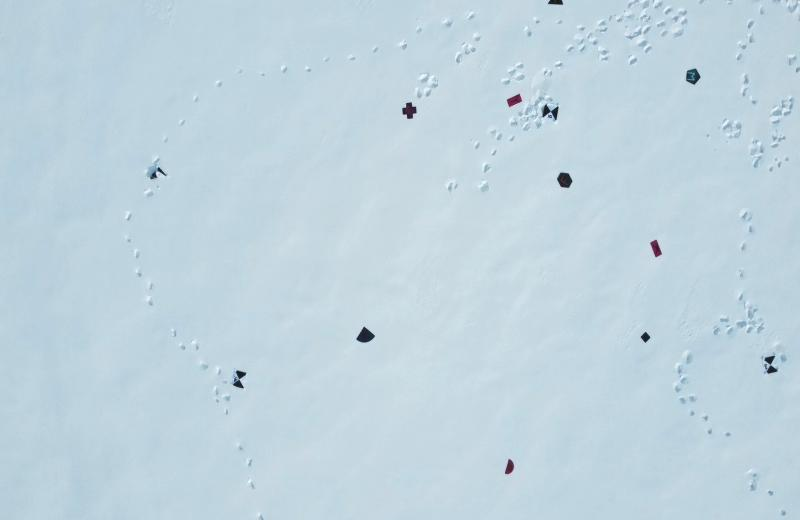Cross: (401, 101, 417, 120)
Hexagon: (555, 170, 573, 188)
Pentagon: (684, 68, 702, 86)
Quarter Circle: (355, 325, 375, 346)
Rectangle: (649, 238, 662, 259), (506, 94, 522, 107)
Semi Circle: (502, 458, 516, 475)
Square: (640, 331, 650, 344)
Triangle: (546, 0, 564, 7)
